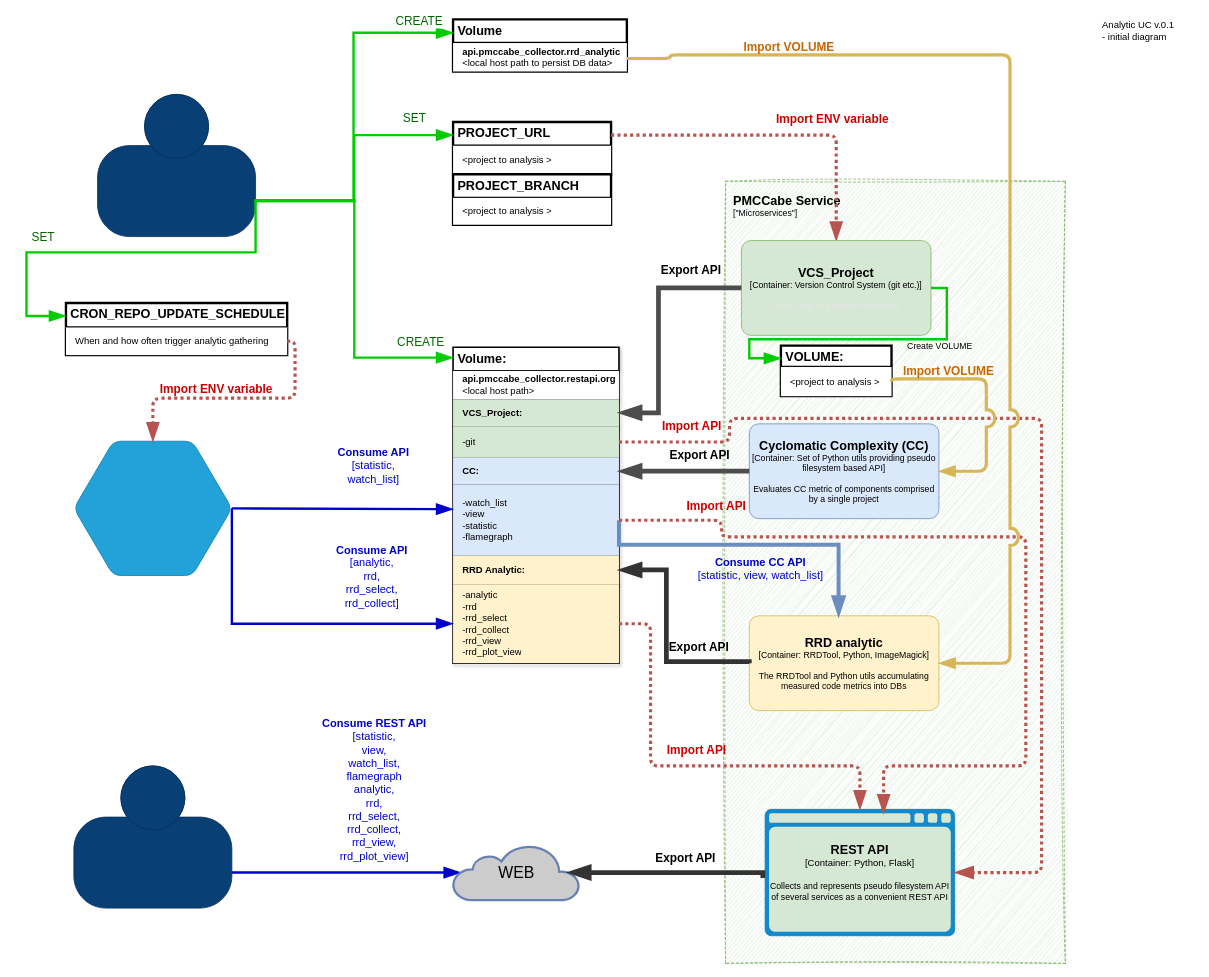
This 1209x977 diagram has some shape labels left out. Each missing label, with the centre of its shape:
"Admin [Person] Commence initial setup" belongs at (176,165).
"Analytic Watcher [Person] Actor, who asks code metric analytics data via API" belongs at (152,836).
"ServiceBroker [Container: Crond] Trigger gathering analytics logic by schedule" belongs at (152,508).
